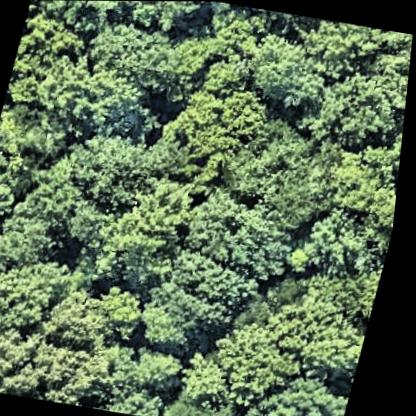tree-top: (143, 183, 302, 362), (210, 106, 362, 241), (0, 313, 132, 407), (60, 118, 182, 219), (164, 79, 270, 175), (5, 14, 101, 116), (288, 194, 392, 288), (272, 285, 379, 373), (215, 317, 313, 411), (307, 69, 407, 156), (239, 28, 339, 114), (74, 21, 188, 95), (328, 130, 406, 230), (0, 184, 76, 280), (110, 341, 194, 416), (255, 365, 350, 416), (301, 261, 388, 315), (94, 282, 158, 341), (184, 344, 244, 405), (114, 1, 204, 36), (200, 51, 253, 99)
